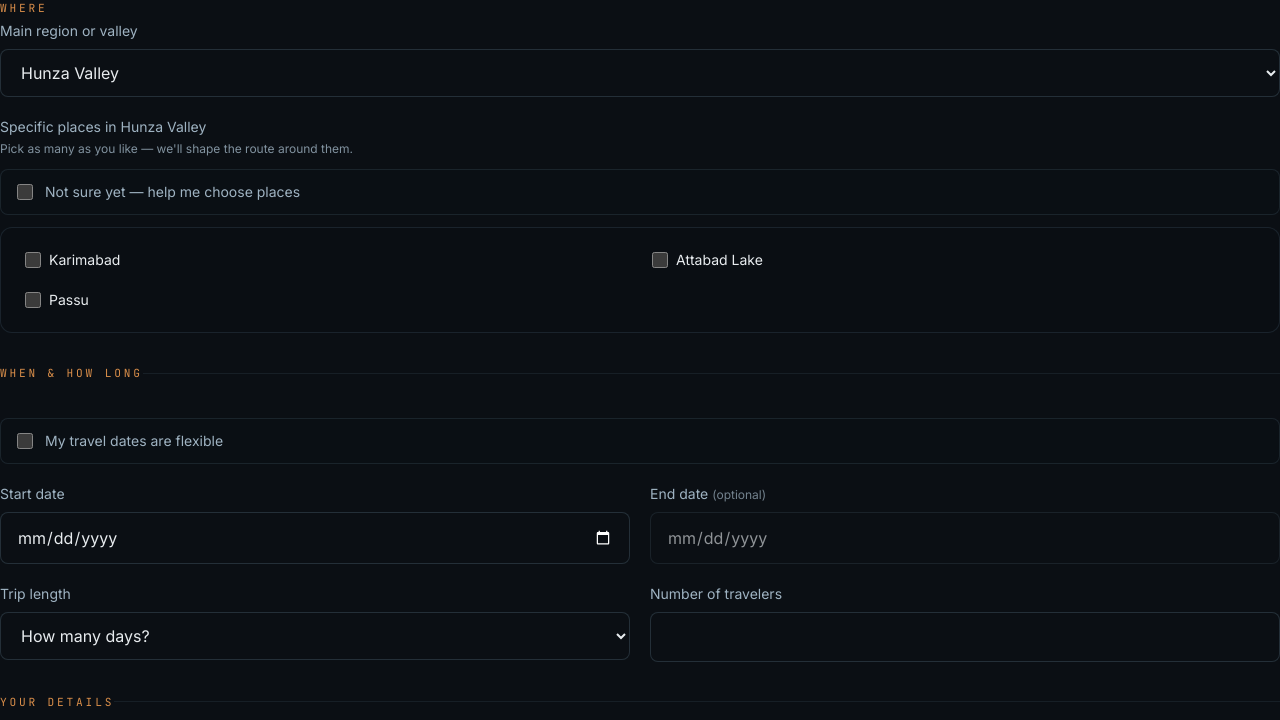
Scenario: ContactForm › requires a trip length before submitting
Type "2026-09-12" into the date field labelled "Start date" at (315, 538), box [0,512,630,564]
(page scrolled)
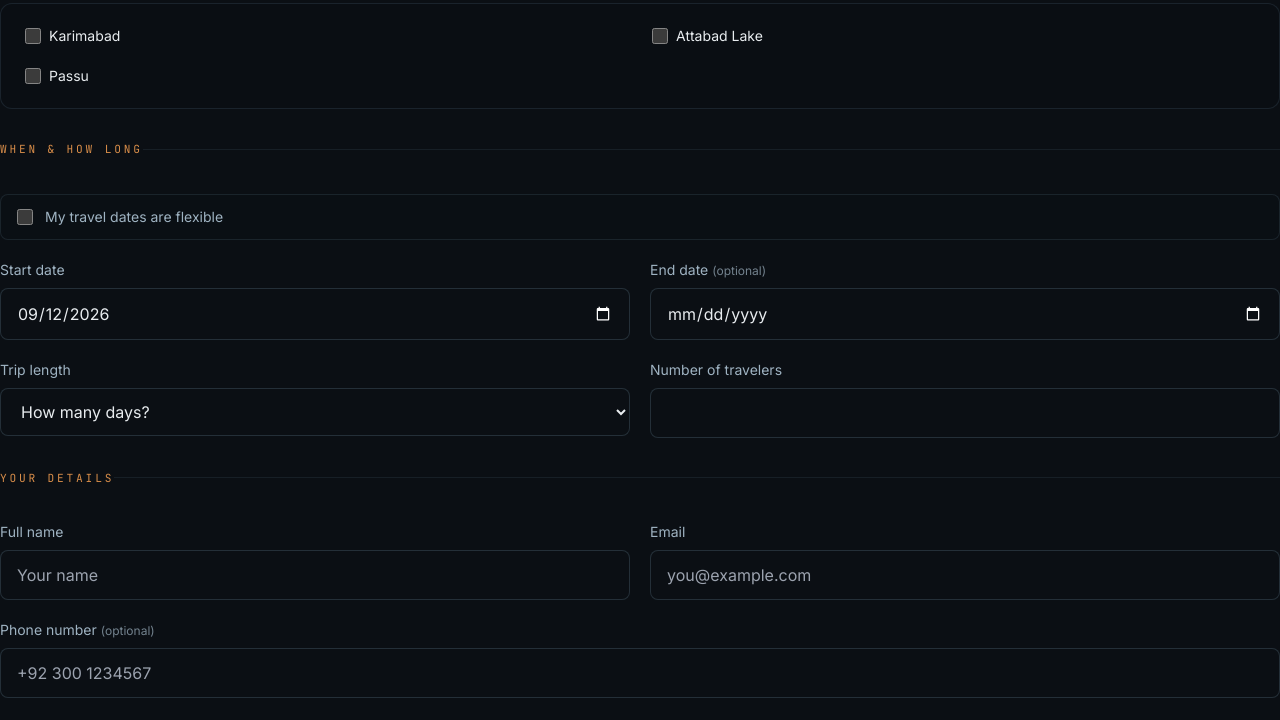
Submit the form
(page scrolled)
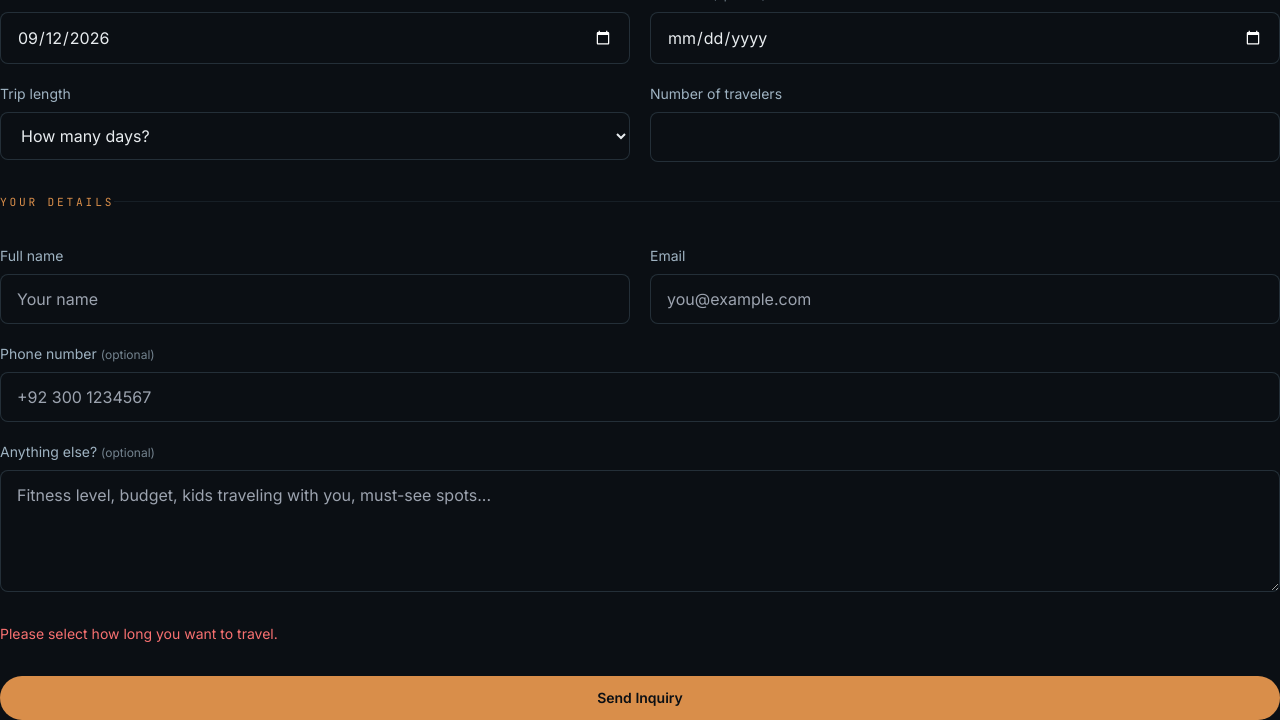
Result: the message reads "Please select how long you want to travel." at [0,625,278,642]
